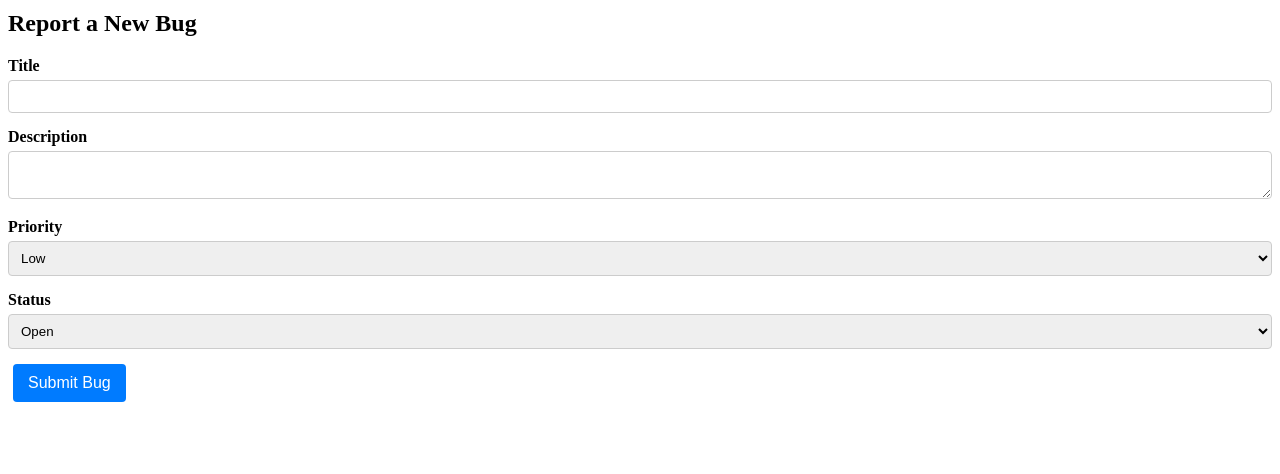
Test: Form Submission and Validation Integration Tests › BugForm Component Validation › should validate description minimum length
In the field with test id "title-input": (640, 96) top-left (8, 80), bottom-right (1272, 113), type "Valid Bug Title"
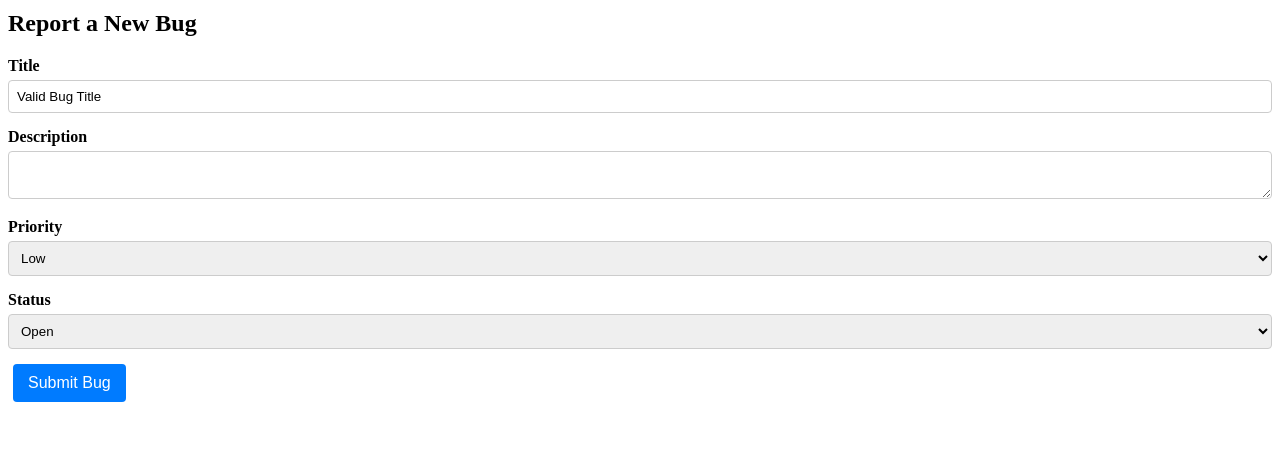
In the text box with test id "description-input": (640, 175) top-left (8, 151), bottom-right (1272, 199), type "Short"
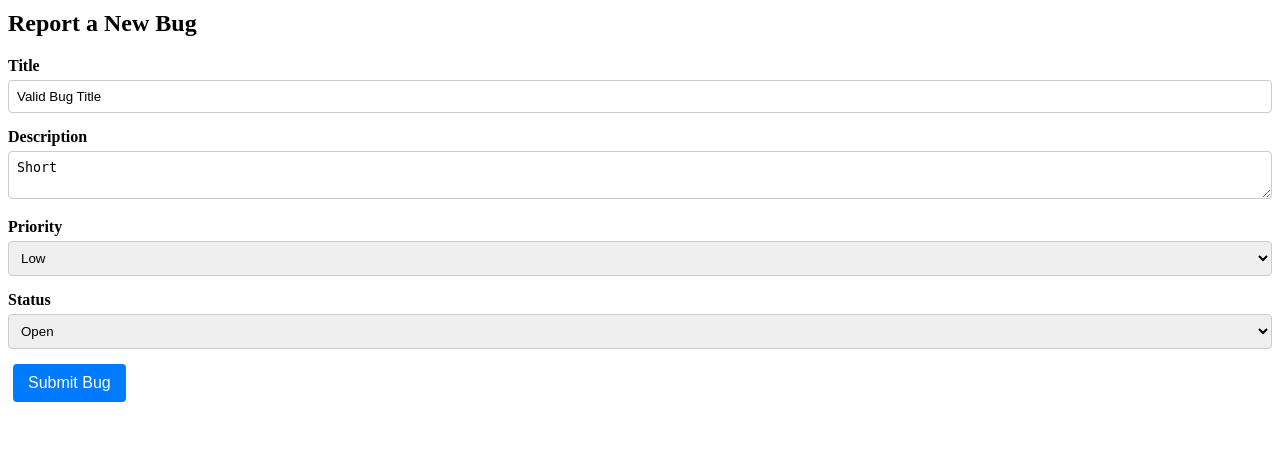
Click the button with test id "submit-button": (69, 383) top-left (13, 364), bottom-right (126, 402)
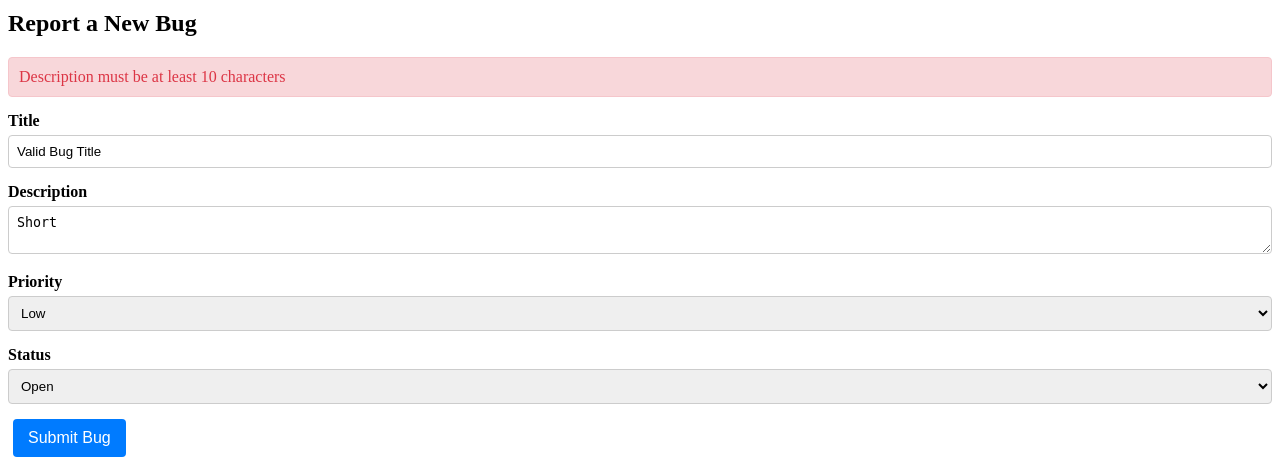
Expected: the text "Description must be at least 10 characters" is shown, top-left (8, 57), bottom-right (1272, 97)
